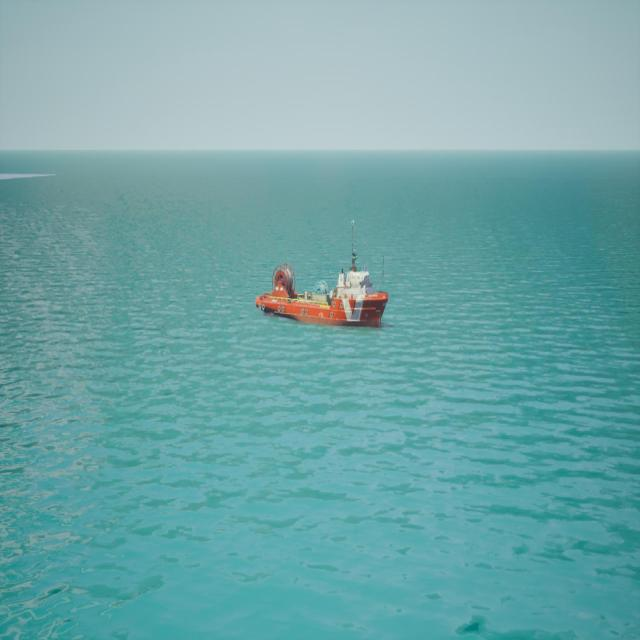tug boat: (257, 248, 392, 332)
